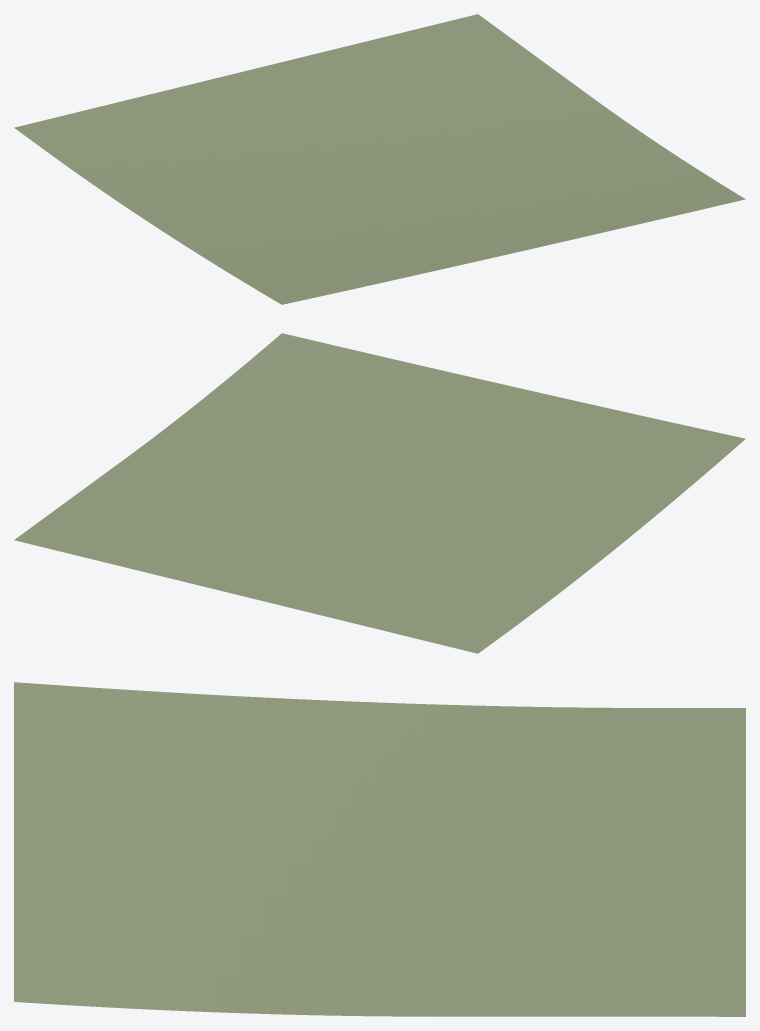
The model's file is desert-5-25.glb.
3 renders of one model, top to bottom at view 1: azimuth 30°, elevation 25°; view 2: azimuth 150°, elevation 25°; view 3: azimuth 270°, elevation 25°, orthographic. The views are drawn at different scales.
Parts seen in each view (by area): view 1: desert-5-25; view 2: desert-5-25; view 3: desert-5-25.
Boxes of the visible parts, bbox=[...] form: desert-5-25: bbox=[14, 14, 745, 304]; desert-5-25: bbox=[14, 333, 745, 653]; desert-5-25: bbox=[14, 682, 745, 1016].
Bounding box in the file's own units: 512 × 20 × 512.
